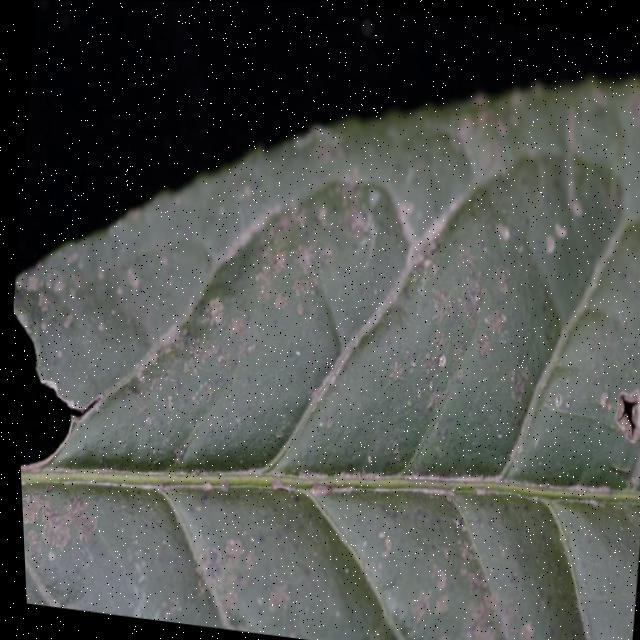Tea algae leaf spot: (80, 130, 613, 484)
